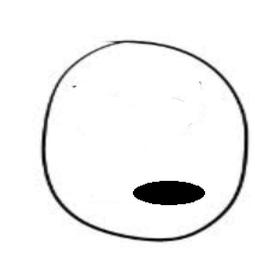open_mouth: (117, 167, 207, 208)
